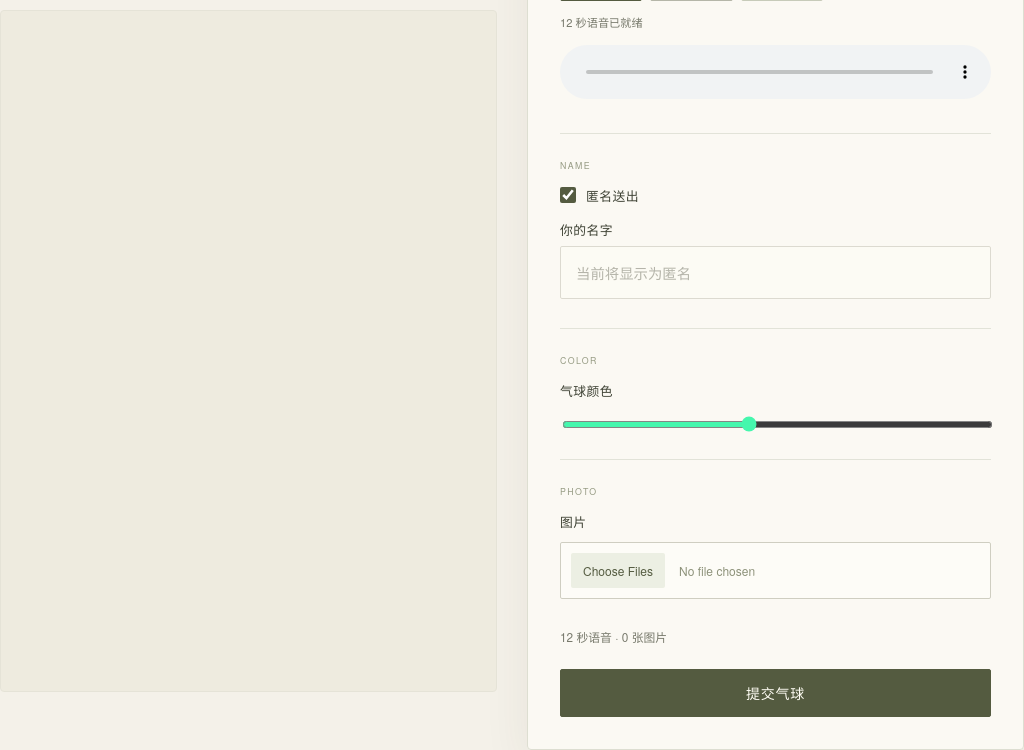
Scenario: GiverComposer › stores local recorded audio as a persistent data url
The image size is (1024, 750).
(page scrolled)
Click the button "提交气球": (776, 693) [560,669,991,717]
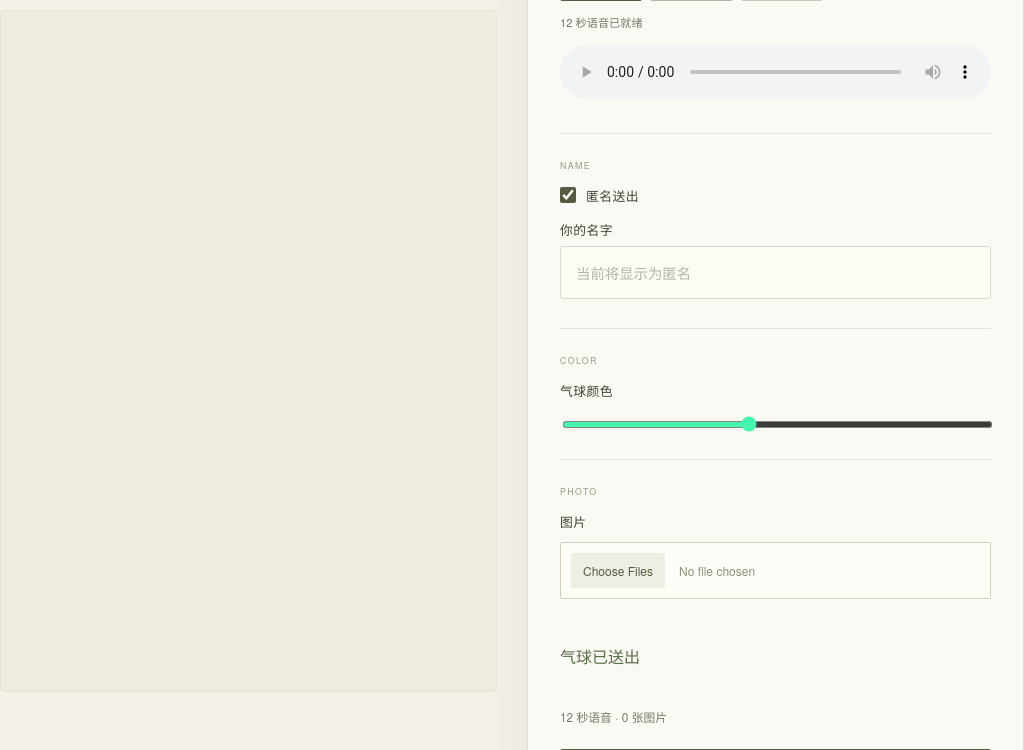
Expected: the text "气球已送出" is shown, [560,645,640,668]
